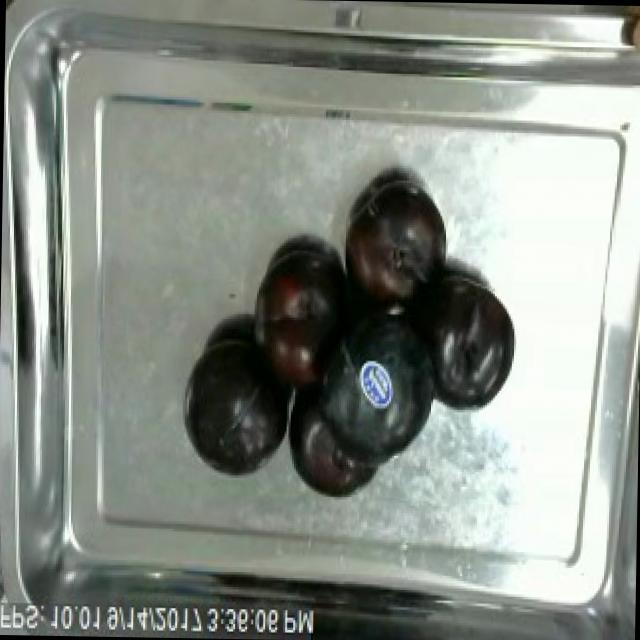Fruit: (181, 329, 296, 484), (408, 264, 523, 416), (330, 176, 452, 310)
